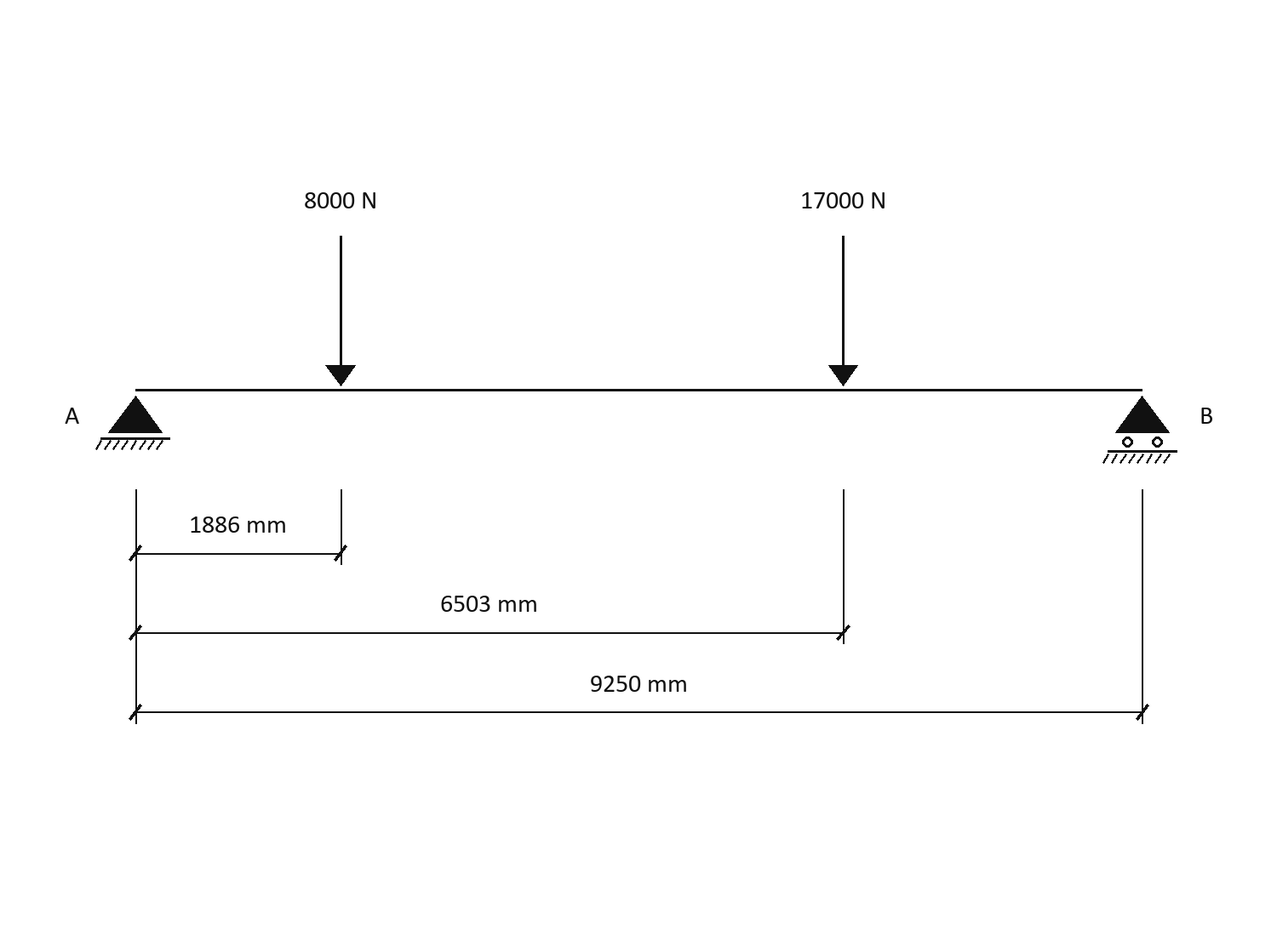pin_support: (95, 396, 170, 450)
point_load: (325, 236, 356, 386), (828, 236, 858, 386)
roller_support: (1102, 396, 1177, 464)
